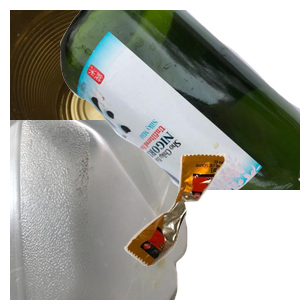glass: (60, 10, 300, 190)
metal: (10, 10, 200, 180)
plastic: (10, 120, 190, 300)
trash: (122, 151, 300, 300)
